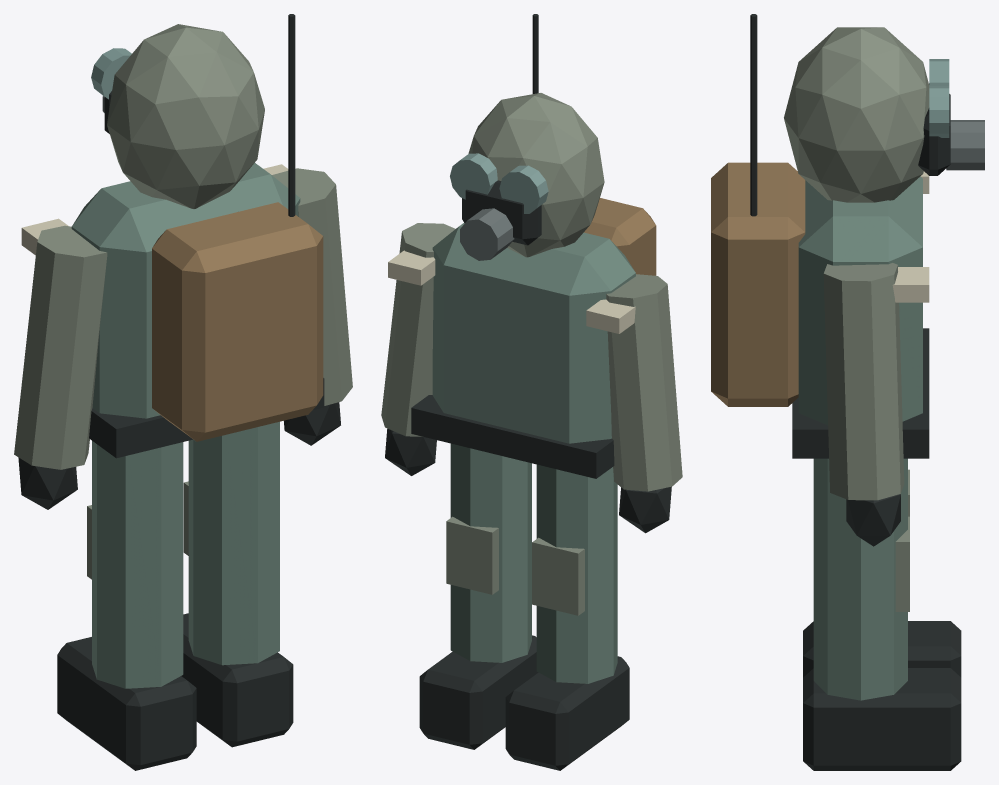
File: avatar.glb
3 renders of one model, left to right at view 1: azimuth 30°, elevation 25°; view 2: azimuth 150°, elevation 25°; view 3: azimuth 270°, elevation 25°, orthographic. The views are drawn at different scales.
Parts seen in each view (by area): view 1: avatar; view 2: avatar; view 3: avatar.
Boxes of the visible parts, x1=… form: avatar: x1=14, y1=14, x2=352, y2=770; avatar: x1=381, y1=14, x2=682, y2=770; avatar: x1=711, y1=14, x2=984, y2=770.
Size of the model in its own units: 0.8805 by 1.92 by 0.64.
